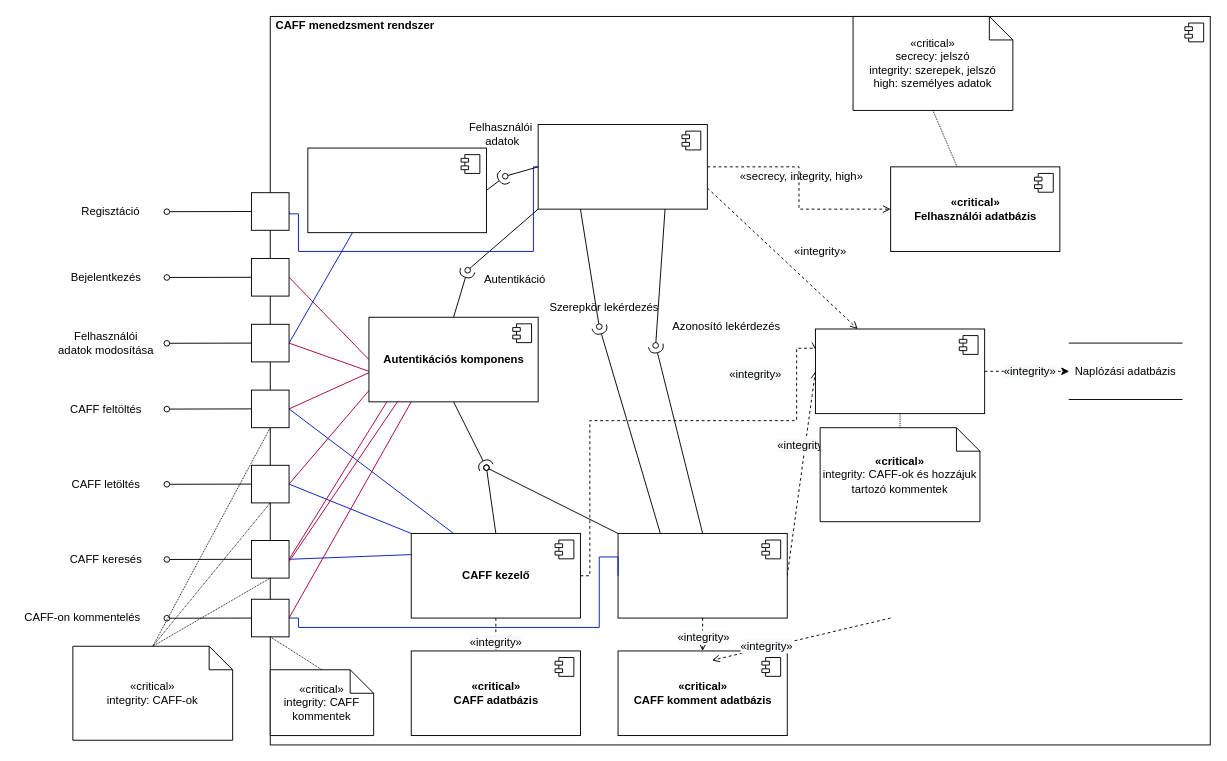
The diagram is 1227 pixels wide and 761 high, and some of its shapes have lost their labels. The shapes that lost their labels are listed below. From the top down, each one's centre as x and y in pixels, then its label:
At point (622, 166): "Felhasználói kezelő".
At point (396, 190): "Hozzáférés védelmi komponens".
At point (900, 371): "«critical» Napló".
At point (702, 575): "CAFF komment kezelő".
